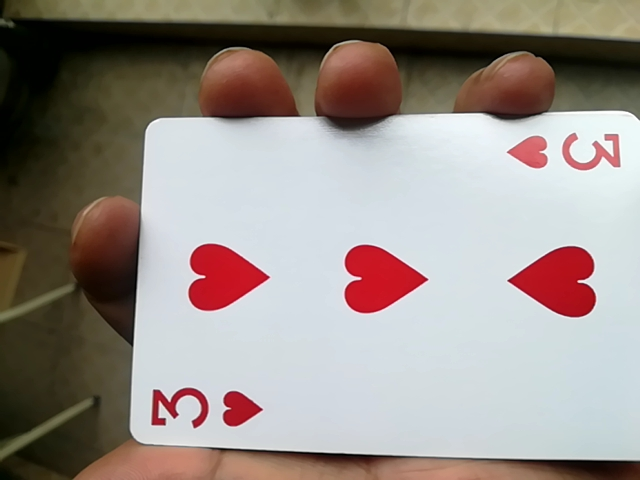hx 3: (116, 115, 634, 474)
